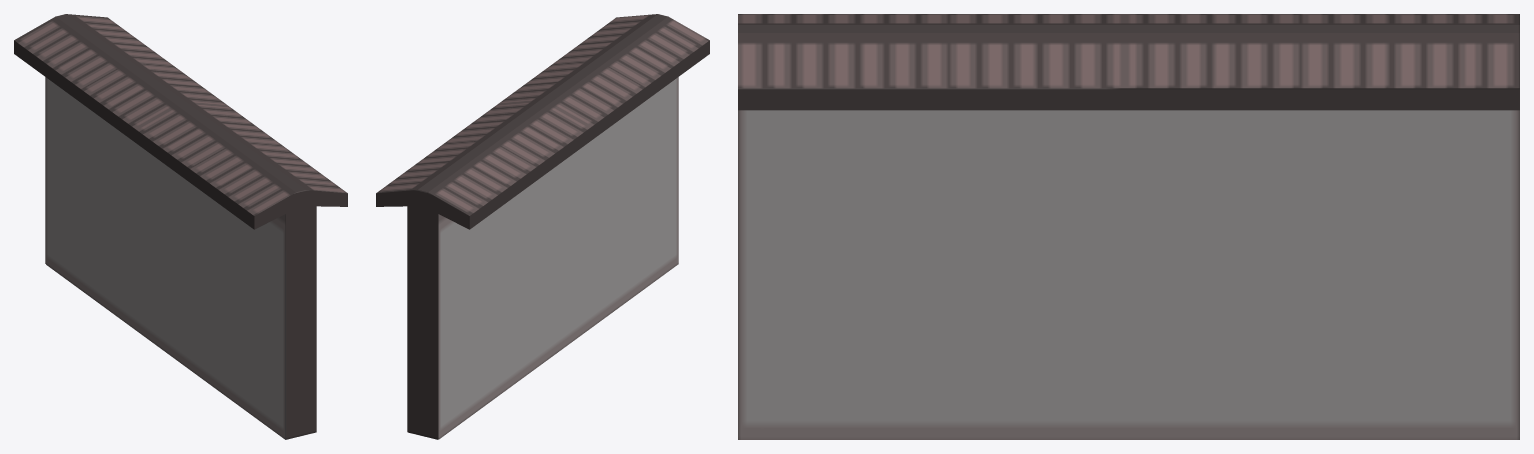
The model's file is JapanWall.fbx.
3 views of the same model, side by side, from view 1: azimuth 30°, elevation 25°; view 2: azimuth 150°, elevation 25°; view 3: azimuth 270°, elevation 25° (orthographic). The views are drawn at different scales.
Parts seen in each view (by area): view 1: cuboid; view 2: cuboid; view 3: cuboid.
Part boxes in pixels (box(x1,y1,x2,y2)): cuboid: box(14, 14, 347, 439); cuboid: box(376, 14, 709, 439); cuboid: box(738, 14, 1519, 439).
Bounding box in the file's own units: 22.5 × 56.25 × 100.
Materials: 1 (1 with a texture image).
